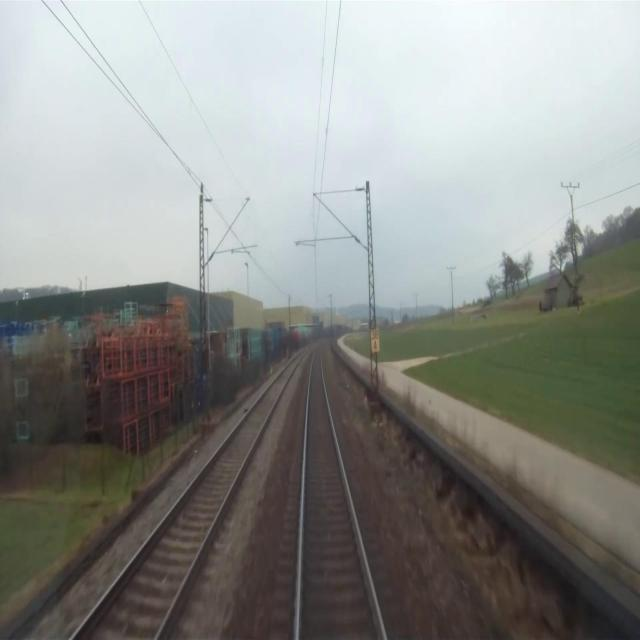rail-track: (75, 358, 297, 639), (301, 350, 382, 639)
